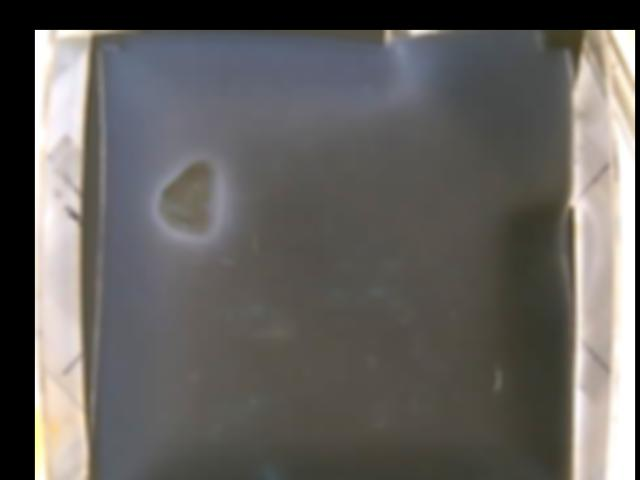Pebble: (156, 157, 219, 237)
